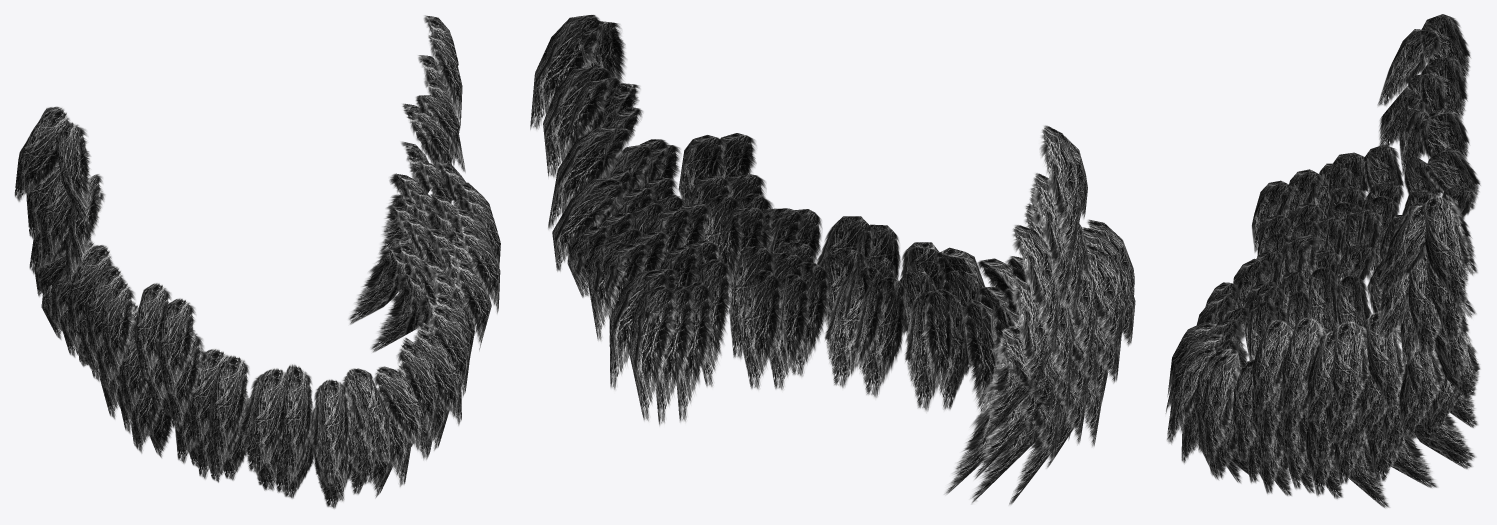
File: facial_beard_short.gltf
3 renders of one model, left to right at view 1: azimuth 30°, elevation 25°; view 2: azimuth 150°, elevation 25°; view 3: azimuth 270°, elevation 25°, orthographic. The views are drawn at different scales.
Visible parts, largest first — view 1: facial_beard_short; view 2: facial_beard_short; view 3: facial_beard_short.
Part boxes in pixels (x1=…): facial_beard_short: x1=14, y1=15, x2=500, y2=508; facial_beard_short: x1=530, y1=14, x2=1135, y2=505; facial_beard_short: x1=1165, y1=14, x2=1480, y2=508.
Size of the model in its own units: 0.1567 by 0.125 by 0.0982.
Materials: 1 (1 with a texture image).
